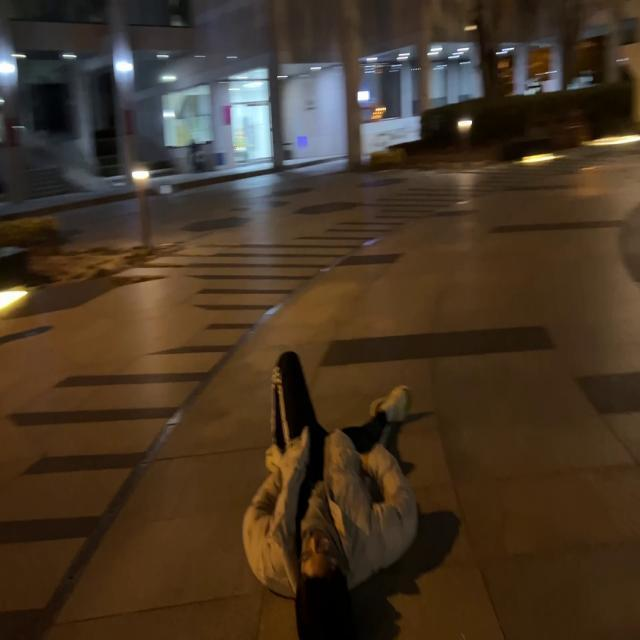Fall: (245, 352, 418, 640)
